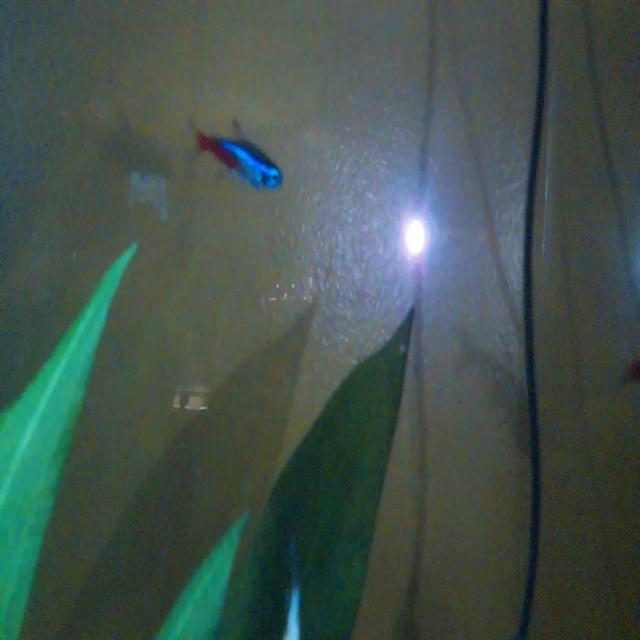fish: (186, 110, 289, 201)
